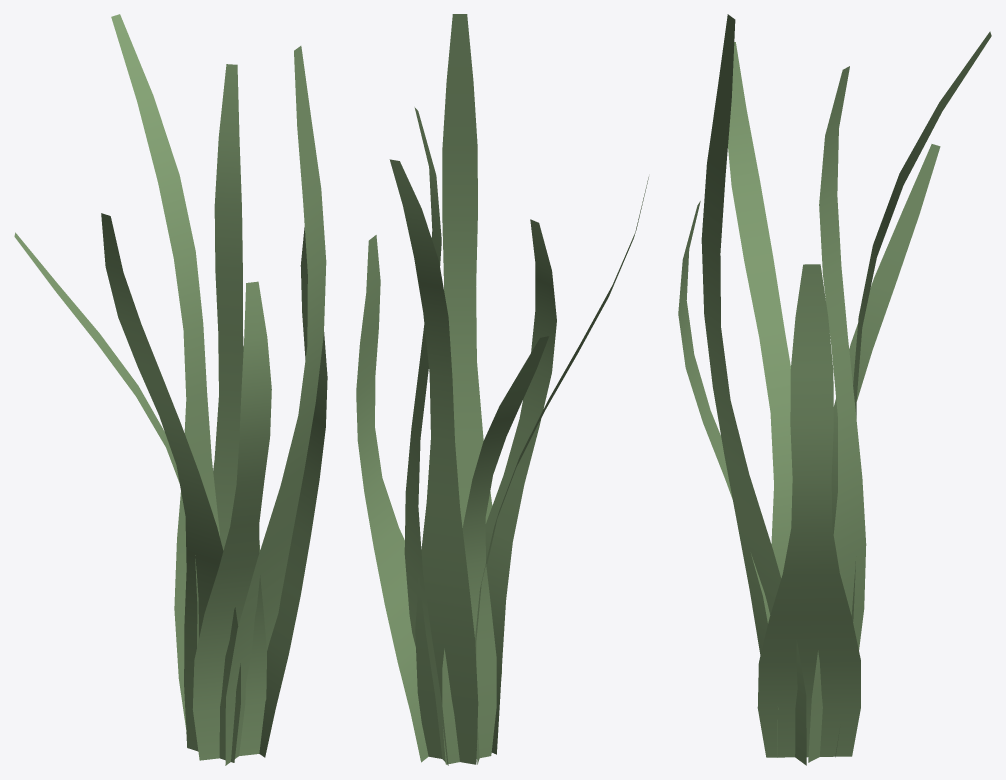
The model's file is seaweed.glb.
3 views of the same model, side by side, from view 1: azimuth 30°, elevation 25°; view 2: azimuth 150°, elevation 25°; view 3: azimuth 270°, elevation 25° (orthographic). The views are drawn at different scales.
Parts seen in each view (by area): view 1: Seaweed_Fronds; view 2: Seaweed_Fronds; view 3: Seaweed_Fronds.
Part boxes in pixels (x1,y1,x2,y2): Seaweed_Fronds: (14, 14, 327, 765); Seaweed_Fronds: (356, 14, 648, 765); Seaweed_Fronds: (678, 14, 991, 765).
Bounding box in the file's own units: 0.7819 × 2.12 × 0.8055.
